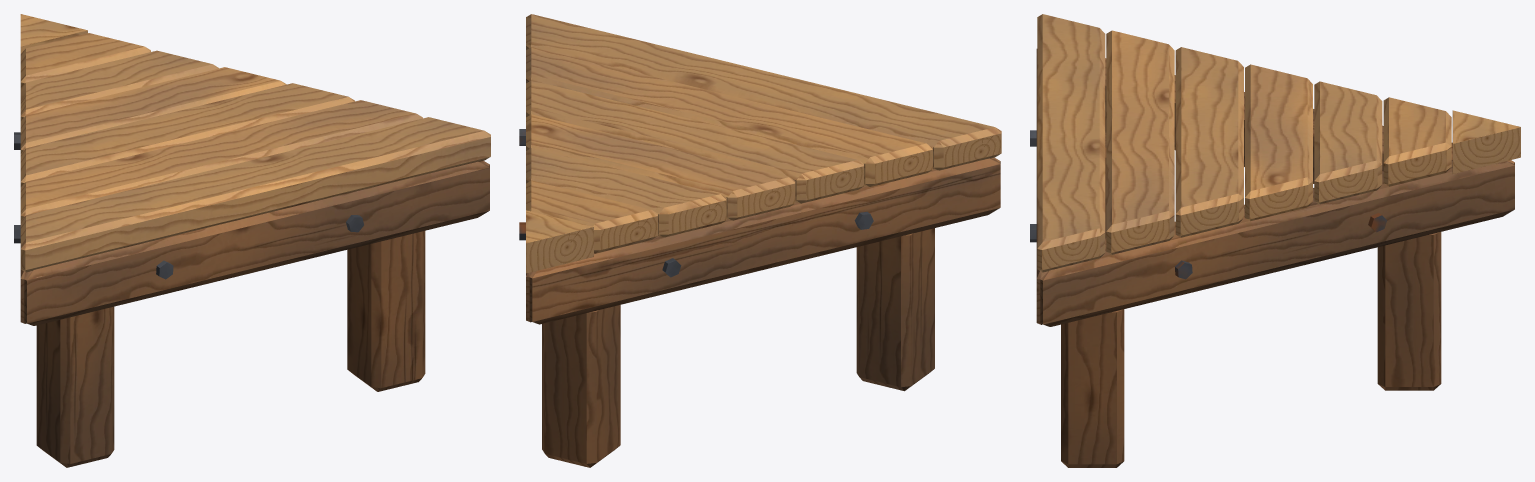
File: ucgen_temel.glb
3 views of the same model, side by side, from view 1: azimuth 30°, elevation 25°; view 2: azimuth 150°, elevation 25°; view 3: azimuth 270°, elevation 25° (orthographic).
Parts seen in each view (by area): view 1: ucgen_temel; view 2: ucgen_temel; view 3: ucgen_temel.
Part boxes in pixels (<box>): ucgen_temel: <box>14,14,490,467</box>; ucgen_temel: <box>519,14,1001,467</box>; ucgen_temel: <box>1030,14,1520,467</box>.
Size of the model in its own units: 2.97 by 1.5 by 2.63.
1 material, 1 textured.
